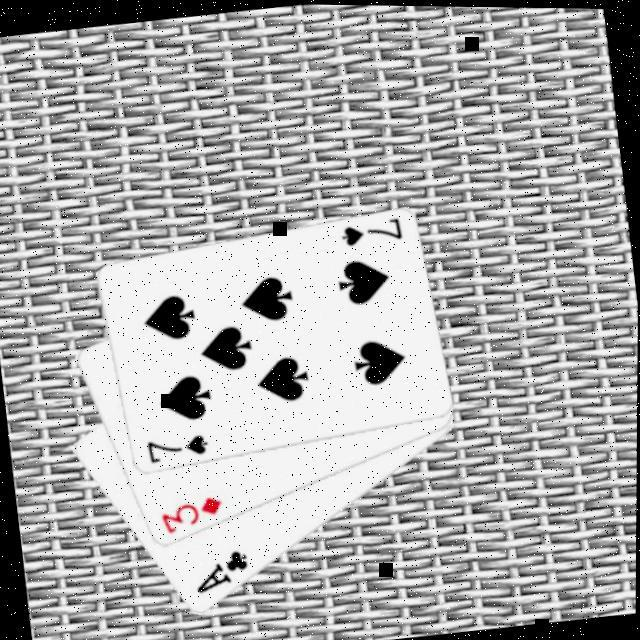3D: (155, 489, 227, 538)
7S: (142, 428, 211, 466), (336, 211, 404, 249)
AC: (188, 543, 254, 597)
